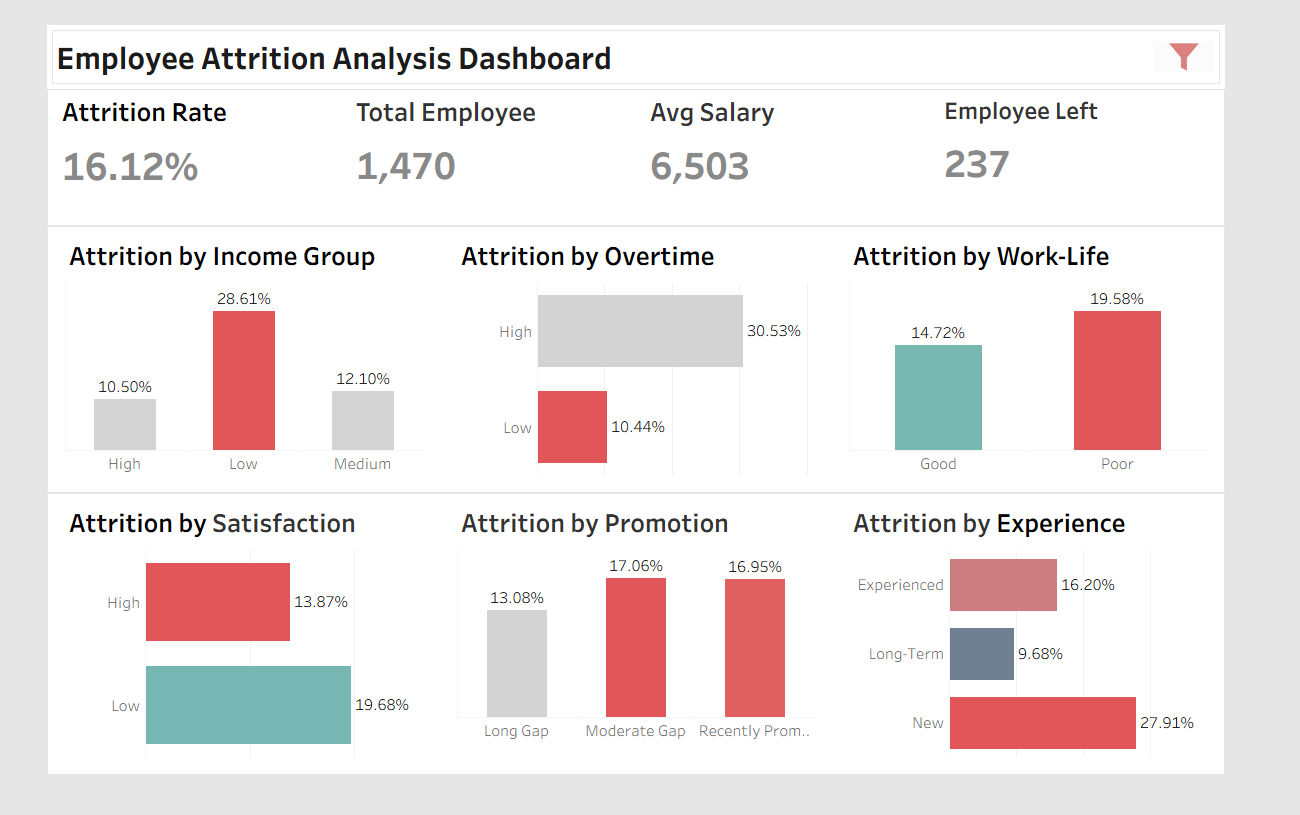

Layout of this report page (visuals, bound fields, positions):
{"tool":"tableau","page":{"name":"Dashboard 1","canvas":[1200,800],"ordinal":0},"visuals":[{"type":"text","box":[12,12,1176,62]},{"type":"dashboard-object","box":[1116,18,63,49]},{"type":"filter","title":"SatisfationLevel","param":"[federated.0bh9sfl1oi3ky815h1fs81ex3mwd].[none:JobRole:nk]","box":[1022,31,158,88]},{"type":"worksheet","title":"AttritionRate KPI","mark":"Text","box":[12,76,294,135]},{"type":"worksheet","title":"Total Employee KPI","mark":"Text","box":[306,76,294,135]},{"type":"worksheet","title":"Avg Salary KPI","mark":"Automatic","box":[600,76,294,135]},{"type":"worksheet","title":"Employee Left KPI","mark":"Text","box":[894,76,294,135]},{"type":"filter","title":"SatisfationLevel","param":"[federated.0bh9sfl1oi3ky815h1fs81ex3mwd].[none:Gender:nk]","box":[1022,119,158,88]},{"type":"filter","title":"SatisfationLevel","param":"[federated.0bh9sfl1oi3ky815h1fs81ex3mwd].[none:Department:nk]","box":[1022,207,158,88]},{"type":"worksheet","title":"Income Vs Attriation","mark":"Automatic","rows":["Calculation_1052559506493440"],"cols":["IncomeGroup"],"box":[12,213,392,265]},{"type":"worksheet","title":"OverTime Vs Attriation ","mark":"Automatic","rows":["OvertimeRisk"],"cols":["Calculation_1052559506493440"],"box":[404,213,392,265]},{"type":"worksheet","title":"WorkllifeRisk","mark":"Bar","rows":["Calculation_1052559506493440"],"cols":["WorkLifeRisk"],"box":[796,213,392,265]},{"type":"worksheet","title":"SatisfationLevel","mark":"Automatic","rows":["SatisfactionLevel"],"cols":["Calculation_1052559506493440"],"box":[12,480,392,280]},{"type":"worksheet","title":"Promotion status ","mark":"Bar","rows":["Calculation_1052559506493440"],"cols":["PromotionStatus"],"box":[404,480,392,280]},{"type":"worksheet","title":"Experience Attrition","mark":"Automatic","rows":["RoleExperience"],"cols":["Calculation_1052559506493440"],"box":[796,480,392,280]}]}

Visuals, with their boxes in screenshot pixels (x1, y1, x2, y2):
text: crop(141, 46, 1299, 108)
dashboard-object: crop(1251, 52, 1299, 101)
"SatisfationLevel" filter: crop(1157, 65, 1299, 154)
"AttritionRate KPI" worksheet (Text marks): crop(141, 110, 436, 246)
"Total Employee KPI" worksheet (Text marks): crop(436, 110, 732, 246)
"Avg Salary KPI" worksheet: crop(732, 110, 1028, 246)
"Employee Left KPI" worksheet (Text marks): crop(1028, 110, 1299, 246)
"SatisfationLevel" filter: crop(1157, 154, 1299, 242)
"SatisfationLevel" filter: crop(1157, 242, 1299, 331)
"Income Vs Attriation" worksheet: crop(141, 248, 535, 515)
"OverTime Vs Attriation " worksheet: crop(535, 248, 929, 515)
"WorkllifeRisk" worksheet (Bar marks): crop(929, 248, 1299, 515)
"SatisfationLevel" worksheet: crop(141, 517, 535, 798)
"Promotion status " worksheet (Bar marks): crop(535, 517, 929, 798)
"Experience Attrition" worksheet: crop(929, 517, 1299, 798)
